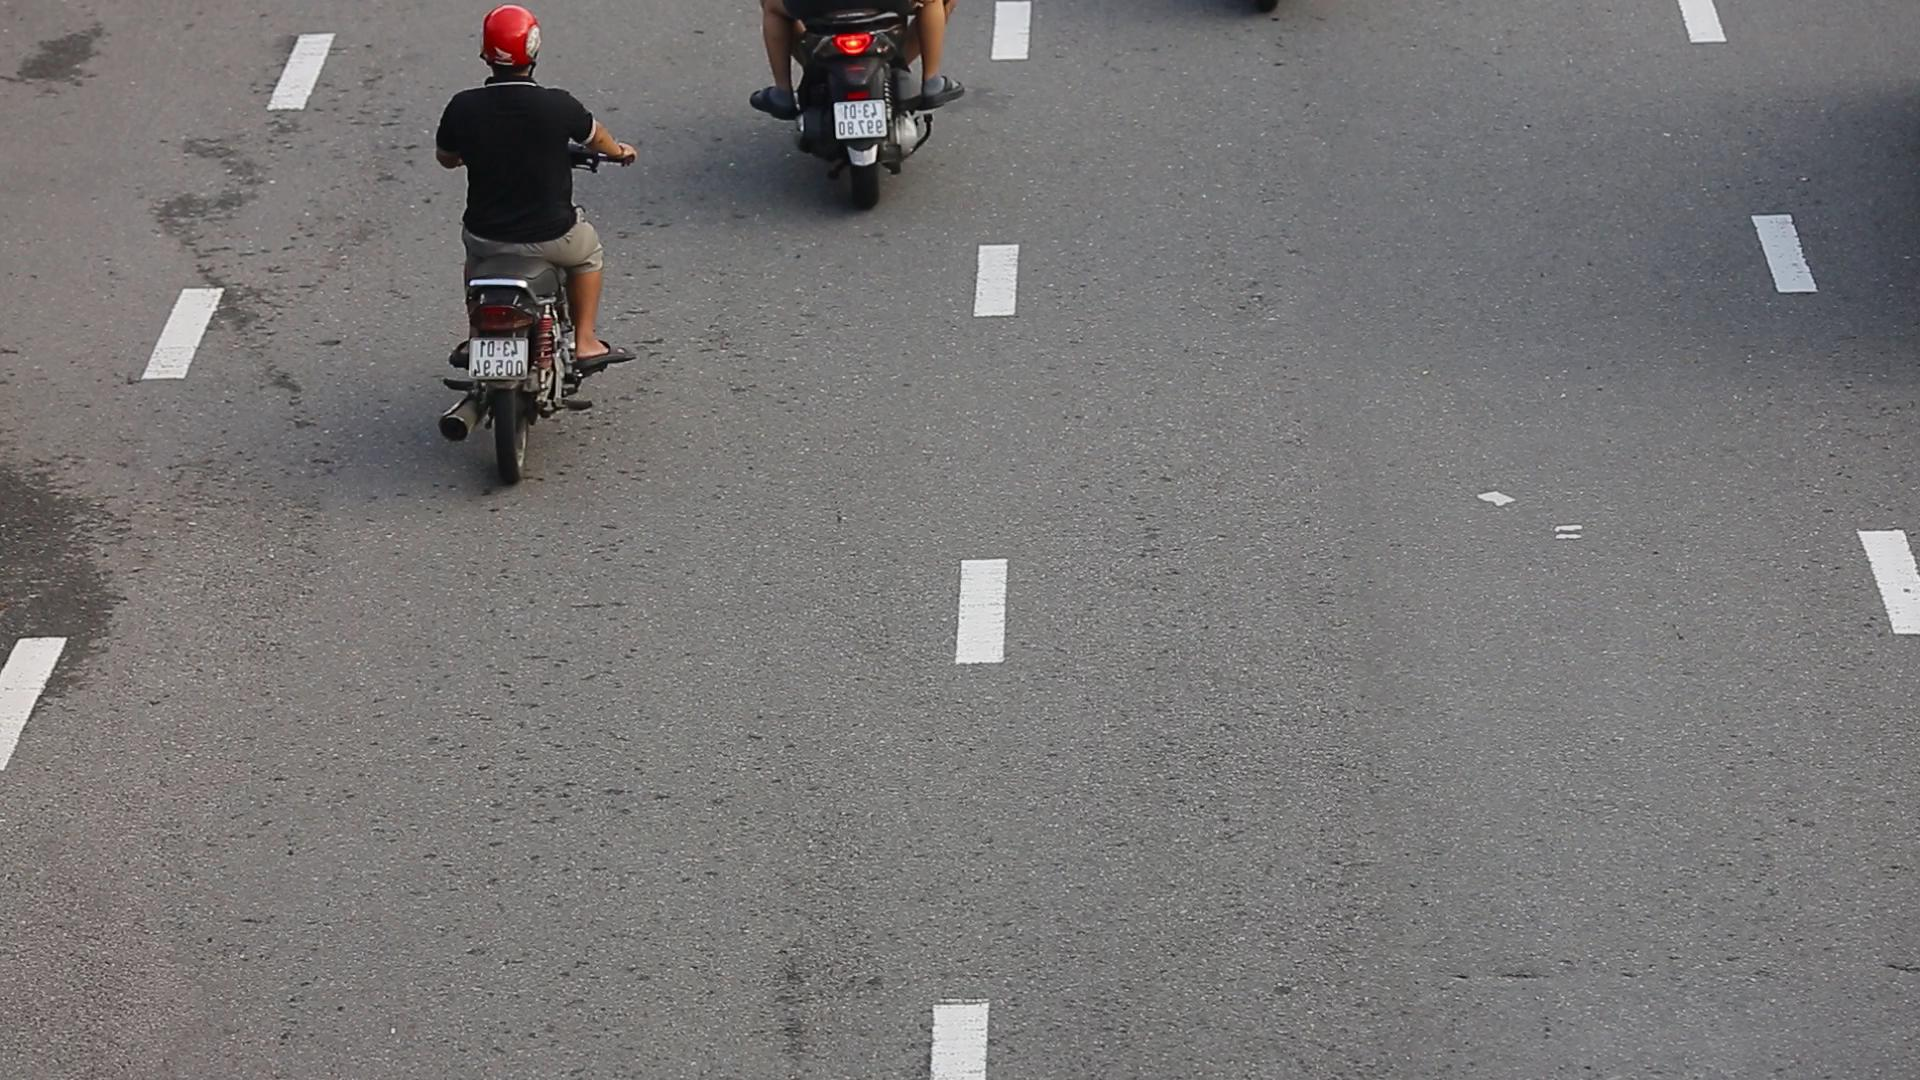motobike: (419, 0, 646, 506)
